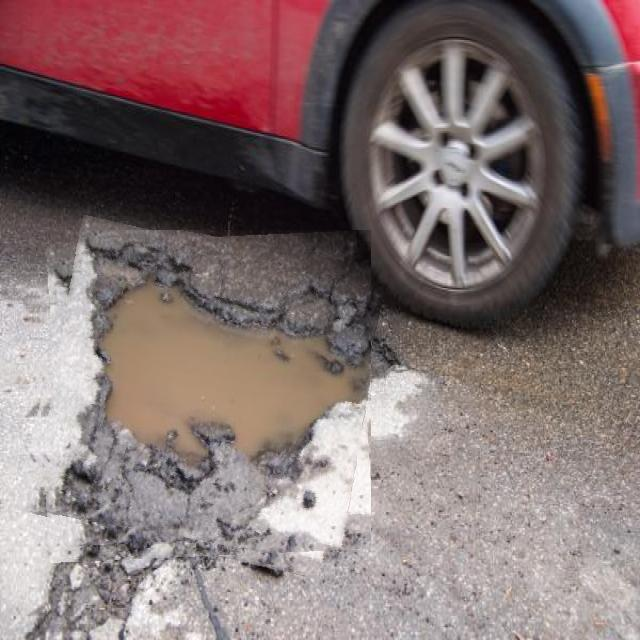Pothole: (30, 230, 371, 563)
